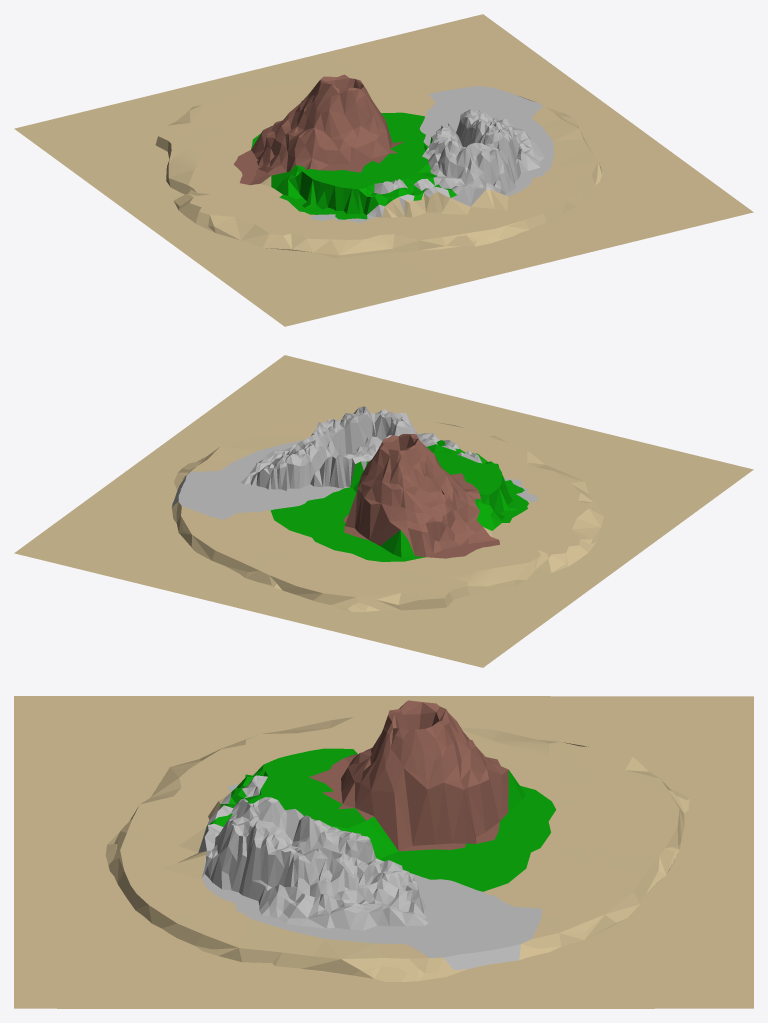
The model's file is Island-flat.fbx.
3 renders of one model, top to bottom at view 1: azimuth 30°, elevation 25°; view 2: azimuth 150°, elevation 25°; view 3: azimuth 270°, elevation 25°, orthographic. The views are drawn at different scales.
Parts seen in each view (by area): view 1: Island; view 2: Island; view 3: Island.
Part boxes in pixels (left/top/right/bottom): Island: left=14, top=14, right=753, bottom=326; Island: left=14, top=355, right=753, bottom=667; Island: left=14, top=696, right=753, bottom=1008.
Bounding box in the file's own units: 348590 × 64068 × 348589.
